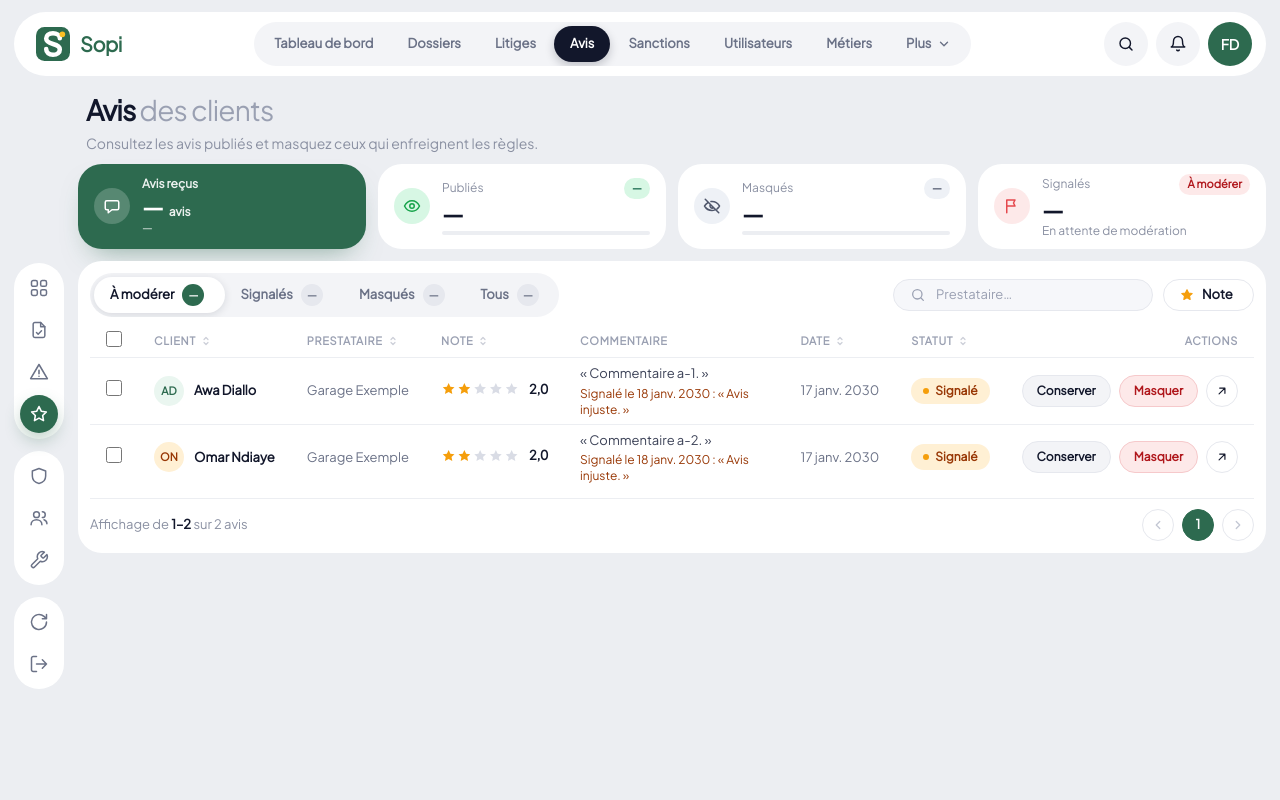
Test: Avis : masquer et republier en groupe › masque les avis cochés : motif obligatoire, un appel par avis avec le même motif
The width and height of the screenshot is (1280, 800).
Expected: the table named "Liste des avis" is shown, [90,324,1254,490]
Click the checkbox named "Tout sélectionner" at (114, 338), box [106,330,122,346]
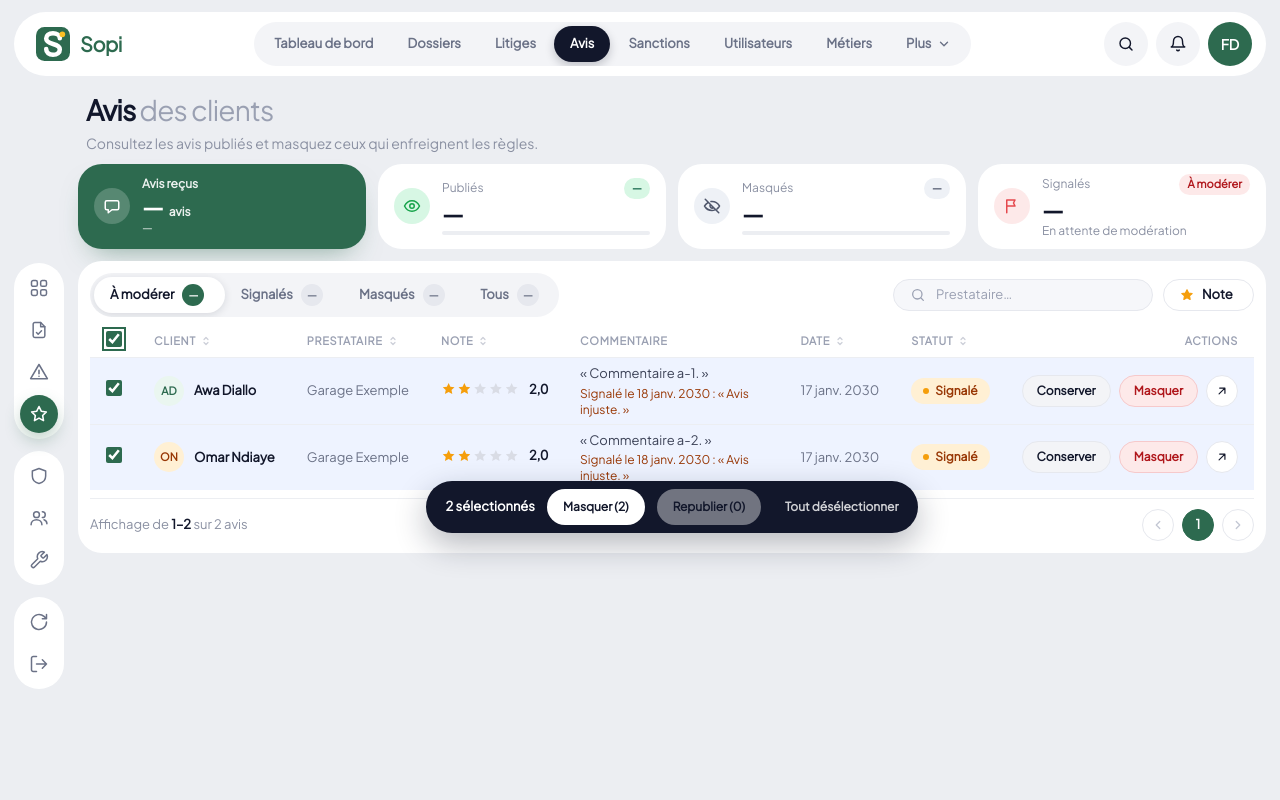
Now the button "Republier (0)" is disabled, box [657,489,761,525]
Click the button "Masquer (2)" at (596, 507), box [547,489,645,525]
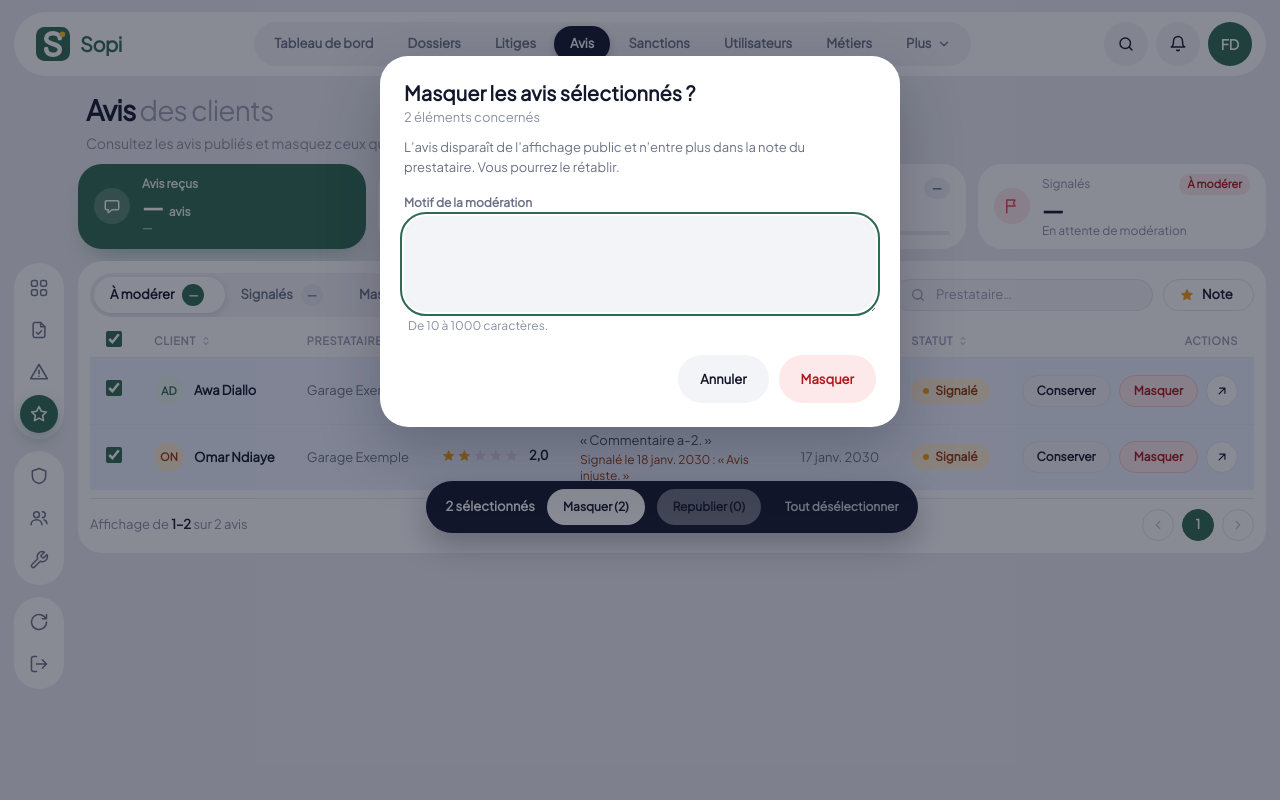
Now the text "2 éléments concernés" is shown, box [404,109,540,125]
Click the button "Masquer" at (827, 379), box [779,355,876,403]
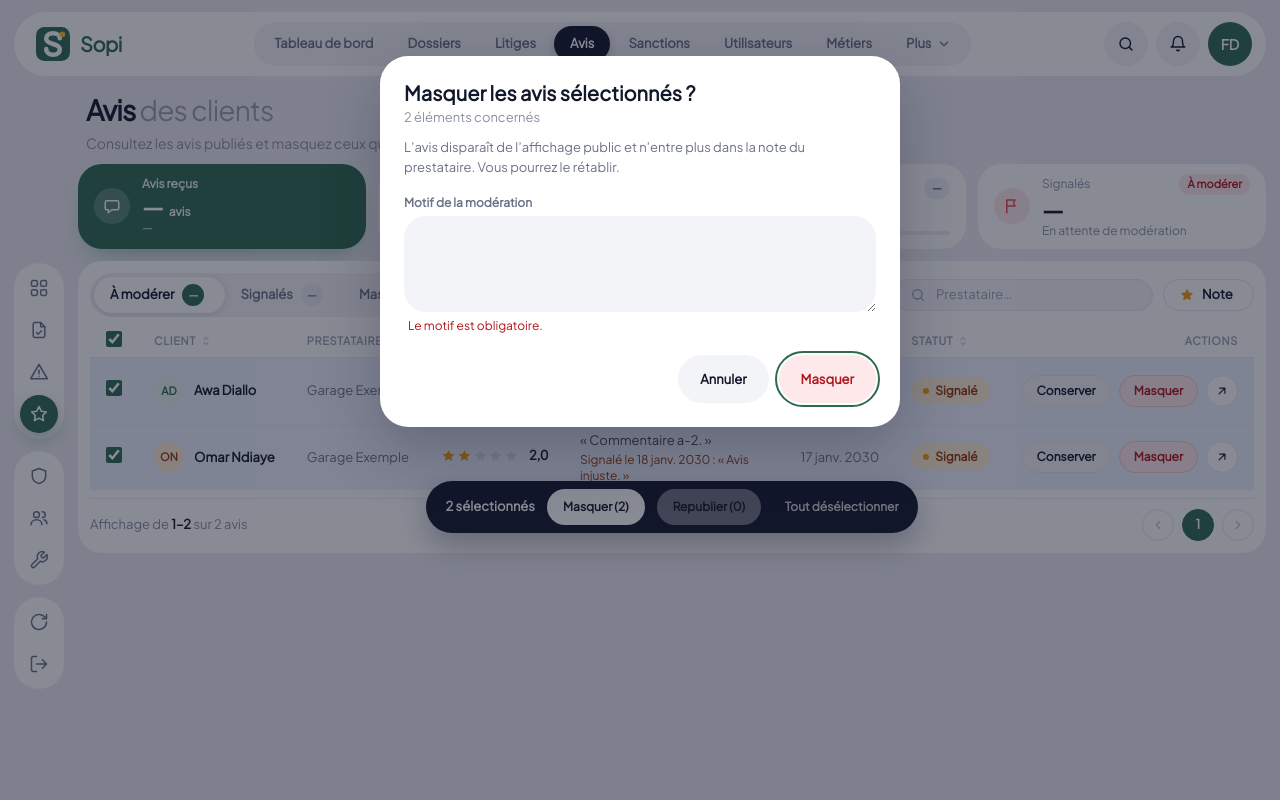
Now the text "Le motif est obligatoire." is shown, box [408,318,543,333]
Type "Propos injurieux répétés" into the text box labelled "Motif de la modération" at (640, 264), box [404,216,876,312]
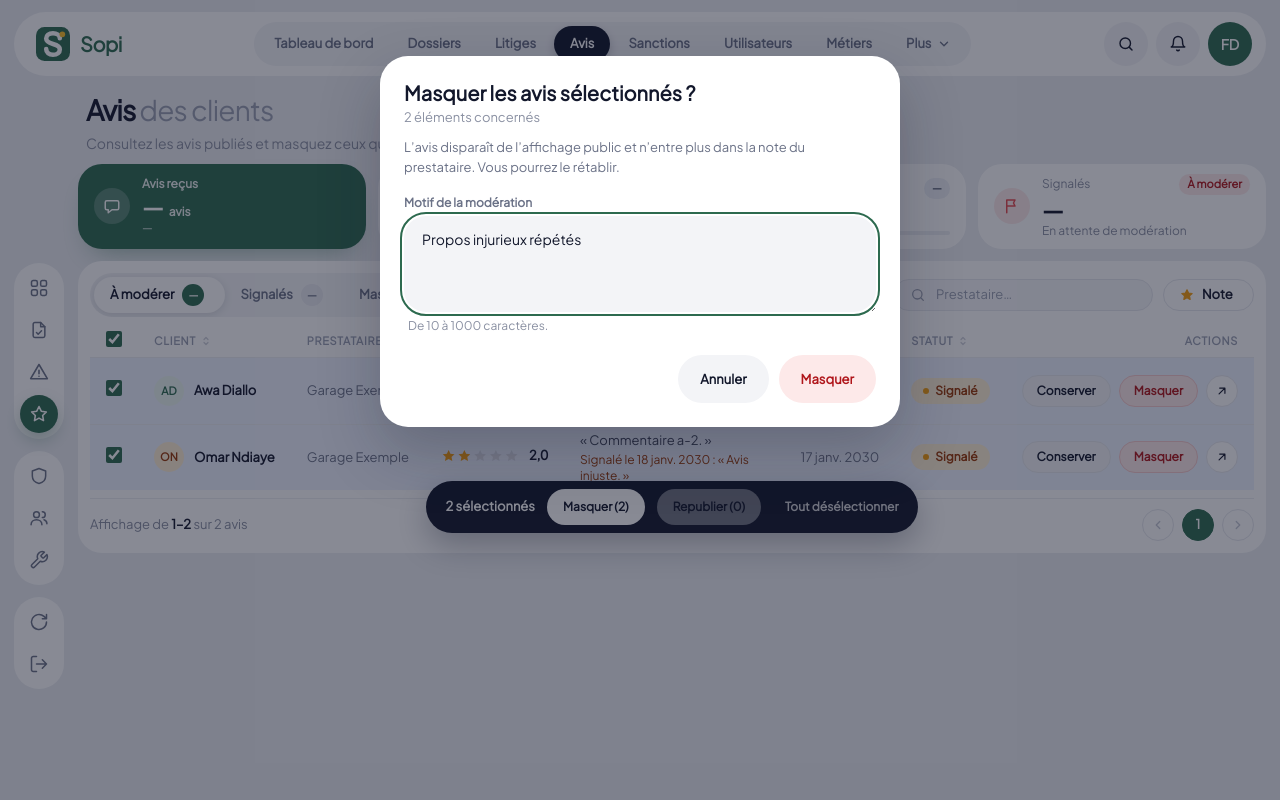
Click the button "Masquer" at (827, 379), box [779,355,876,403]
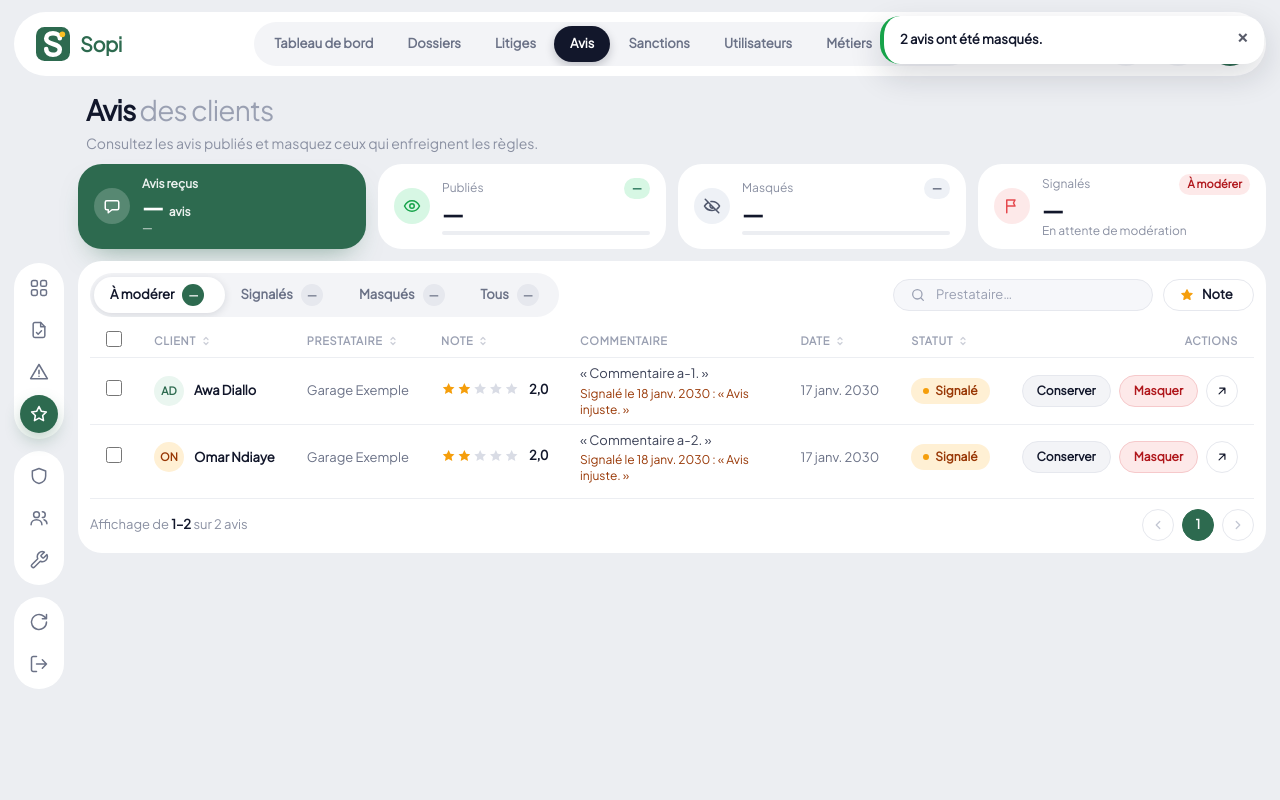
Now the text "2 avis ont été masqués." is shown, box [900,31,1042,47]
